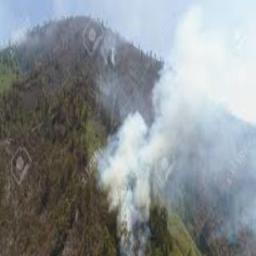Heavy smoke: (85, 13, 256, 256)
